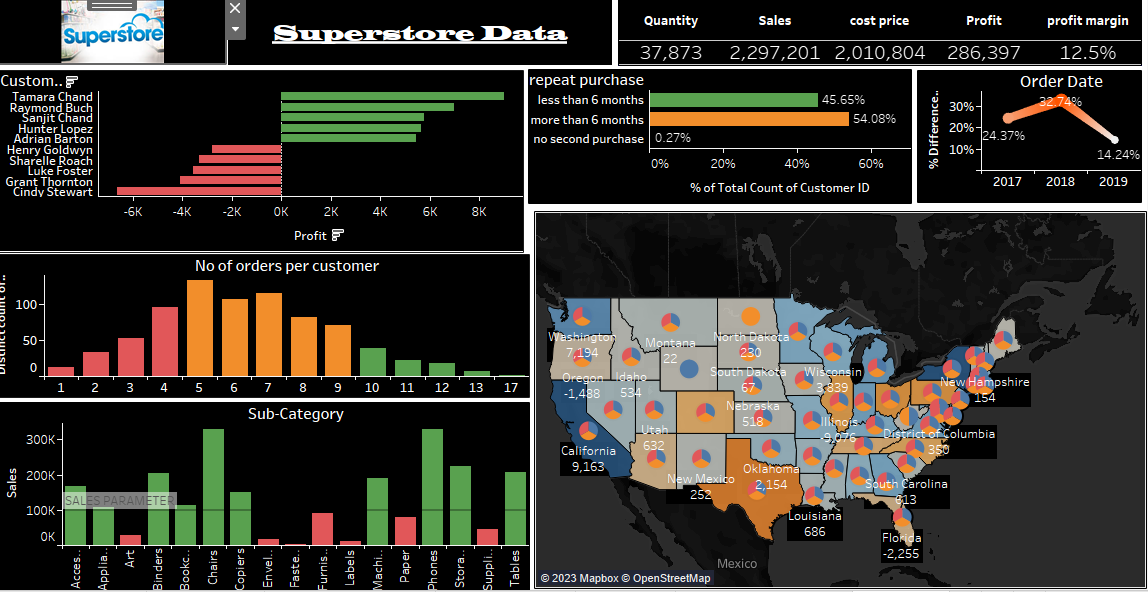

What the dashboard file says about the page in this screenshot:
{"tool":"tableau","page":{"name":"Dashboard ","canvas":[1000,1000],"units":"permille","ordinal":0},"visuals":[{"type":"worksheet","title":"KPI","mark":"Automatic","box":[542,1.7,453.7,114.9]},{"type":"image","param":"C:/Users/Abhisekh/Desktop/CERTIFICATES/images (1).jpg","box":[6.9,5.1,194.8,106.4]},{"type":"text","box":[204.3,5.1,332.5,109.8]},{"type":"worksheet","title":"Repeat customers","mark":"Automatic","rows":["Calculation_131167380712095747"],"box":[464.2,121.6,332.1,228]},{"type":"worksheet","title":"Top and bottom customers by profit","mark":"Automatic","rows":["Customer Name"],"cols":["Profit"],"box":[4.5,123.3,456,309.1]},{"type":"worksheet","title":"Year over Year growth","mark":"Automatic","rows":["Profit"],"cols":["Order Date"],"box":[800.8,123.3,194.8,224.7]},{"type":"worksheet","title":"Combined map","mark":"Automatic","box":[469.3,361.5,530.7,638.5]}]}

Visuals, with their boxes on the dashboard's canvas, which has no fixed pixel size, in thousandths of its width and height (x1, y1, x2, y2). These are canvas units, not pixel positions in the 1148x592 screenshot, which may show the page scaled, cropped or inside an application window:
"KPI" worksheet: [542, 2, 996, 117]
image: [7, 5, 202, 112]
text: [204, 5, 537, 115]
"Repeat customers" worksheet: [464, 122, 796, 350]
"Top and bottom customers by profit" worksheet: [4, 123, 460, 432]
"Year over Year growth" worksheet: [801, 123, 996, 348]
"Combined map" worksheet: [469, 362, 1000, 1000]
